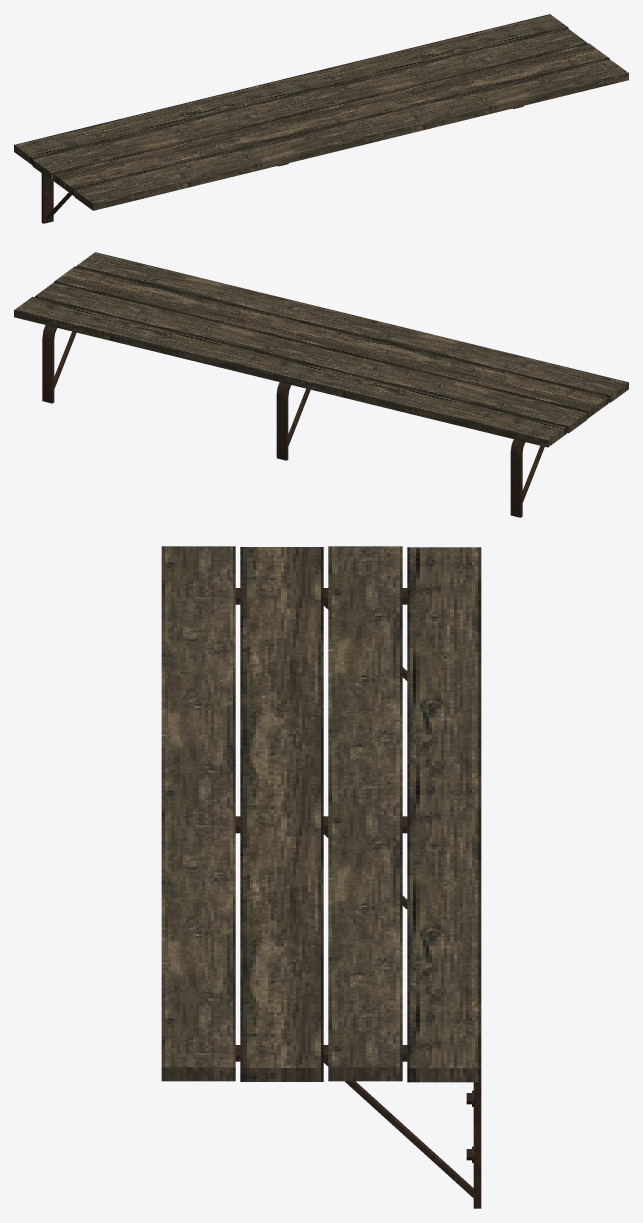
The model's file is hanging_shelf_mx_3_1.glb.
3 renders of one model, top to bottom at view 1: azimuth 30°, elevation 25°; view 2: azimuth 150°, elevation 25°; view 3: azimuth 270°, elevation 25°, orthographic. The views are drawn at different scales.
Visible parts, largest first — view 1: hanging_shelf_mx_3_1; view 2: hanging_shelf_mx_3_1; view 3: hanging_shelf_mx_3_1.
Part boxes in pixels (x1,y1,x2,y2): hanging_shelf_mx_3_1: (14, 14, 628, 223); hanging_shelf_mx_3_1: (14, 252, 628, 517); hanging_shelf_mx_3_1: (161, 546, 481, 1208).
Size of the model in its own units: 1.6 by 0.24 by 0.414.
2 materials, 2 textured.
